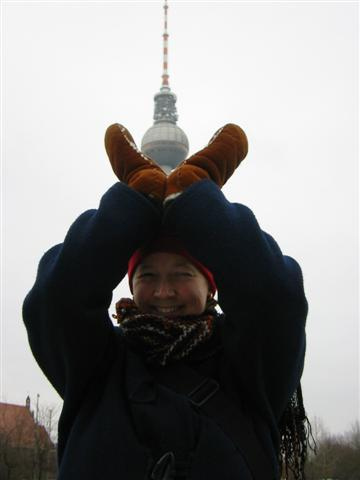without_mask: (120, 240, 222, 333)
